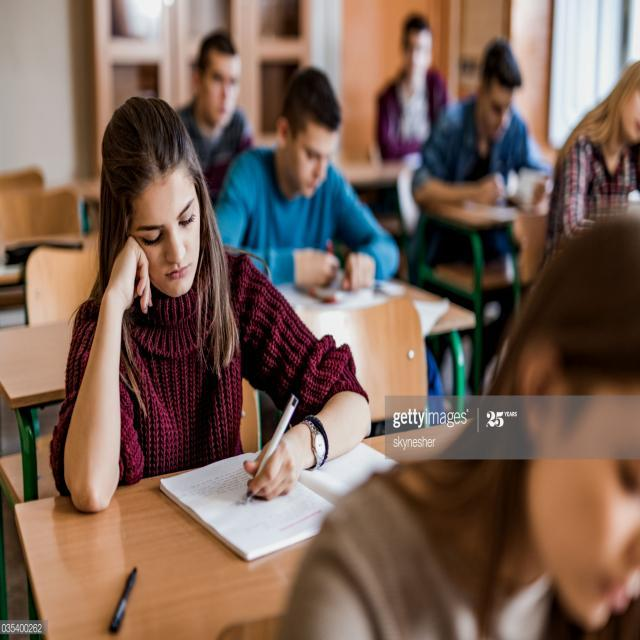good: (50, 75, 410, 554)
